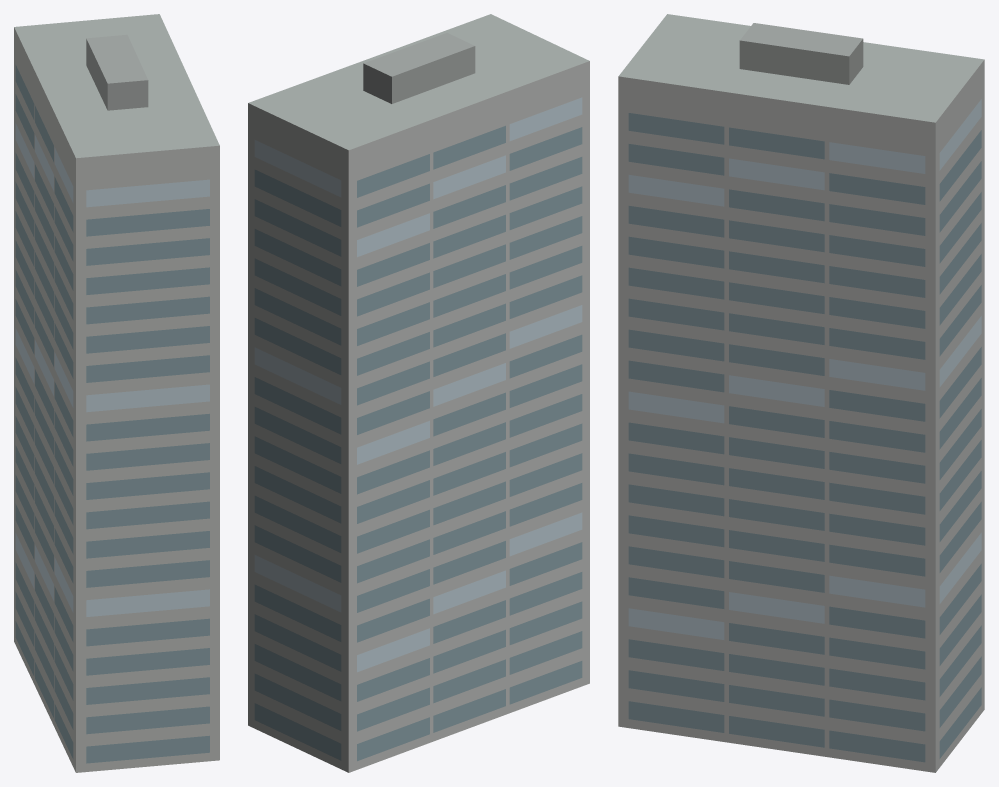
File: fallback-jamsil-els-126.glb
3 views of the same model, side by side, from view 1: azimuth 30°, elevation 25°; view 2: azimuth 150°, elevation 25°; view 3: azimuth 270°, elevation 25° (orthographic). The views are drawn at different scales.
Visible parts, largest first — view 1: fallback-jamsil-els-126; view 2: fallback-jamsil-els-126; view 3: fallback-jamsil-els-126.
Boxes of the visible parts, <box> form: fallback-jamsil-els-126: <box>14,14,219,772</box>; fallback-jamsil-els-126: <box>248,14,589,772</box>; fallback-jamsil-els-126: <box>618,14,984,772</box>.
Size of the model in its own units: 19.58 by 57 by 27.86.
